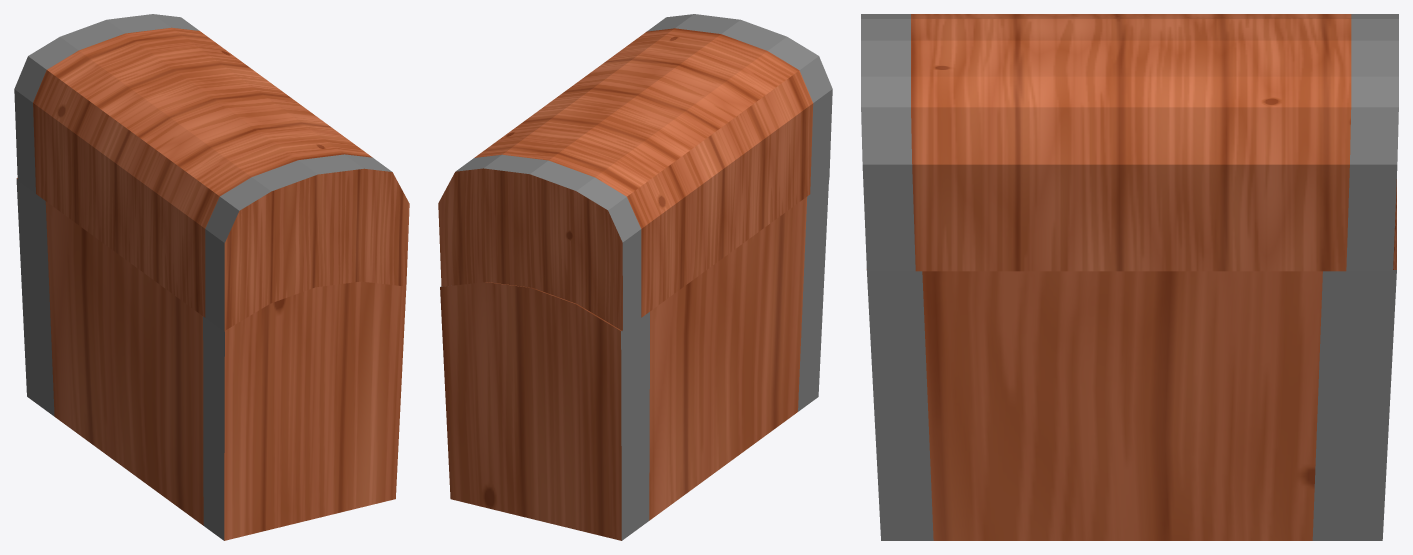
File: chest3.glb
The picture shows the model from 3 angles, left to right: view 1: azimuth 30°, elevation 25°; view 2: azimuth 150°, elevation 25°; view 3: azimuth 270°, elevation 25°; orthographic projection. The views are drawn at different scales.
Visible parts, largest first — view 1: chest, lid; view 2: chest, lid; view 3: chest, lid.
Part boxes in pixels (x1,y1,x2,y2): chest: [16, 178, 406, 540]; lid: [14, 14, 409, 331]; chest: [440, 181, 828, 540]; lid: [438, 14, 832, 330]; chest: [866, 179, 1396, 540]; lid: [861, 14, 1398, 271].
Bounding box in the file's own units: 0.3144 × 0.5705 × 0.6225.
Materials: 2 (1 with a texture image).
